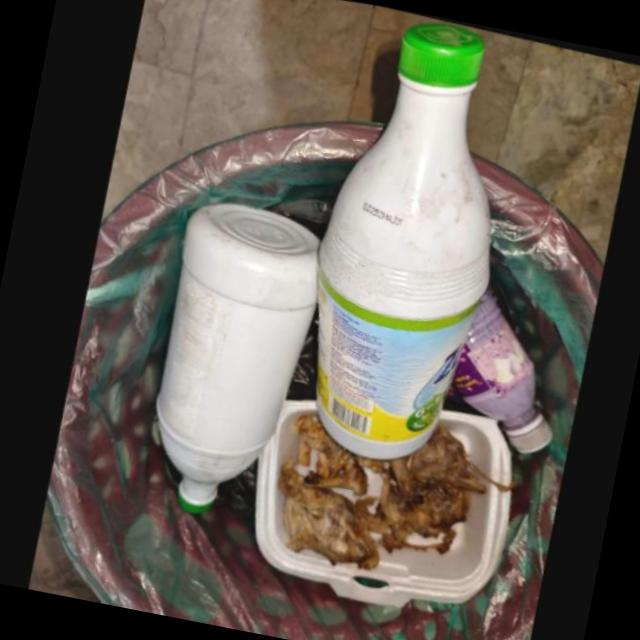chai_nhua: (311, 17, 490, 457), (152, 197, 320, 508), (449, 286, 549, 451)
thuc_an_thua: (273, 457, 378, 566), (385, 423, 513, 491), (375, 476, 463, 551), (290, 412, 364, 493)
